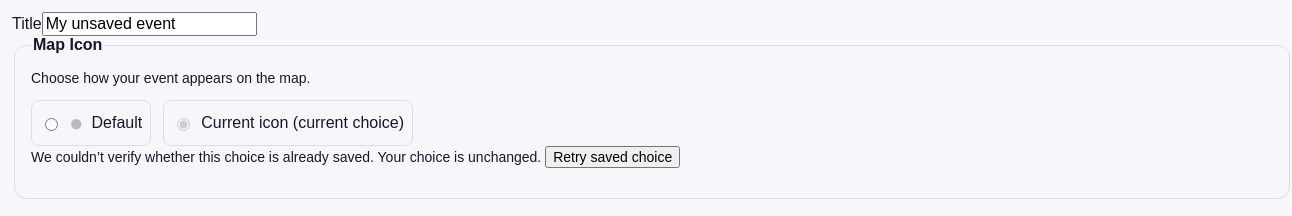
Test case: keeps an unavailable choice when saved-assignment lookup fails and offers retry
The width and height of the screenshot is (1292, 216).
expect the message shows "couldn’t verify": met, box top-left (31, 149), bottom-right (545, 165)
expect the message does not show "before saving": met, box top-left (31, 146), bottom-right (680, 168)
Click the button "Retry saved choice" at [613, 157], box top-left (545, 146), bottom-right (680, 168)
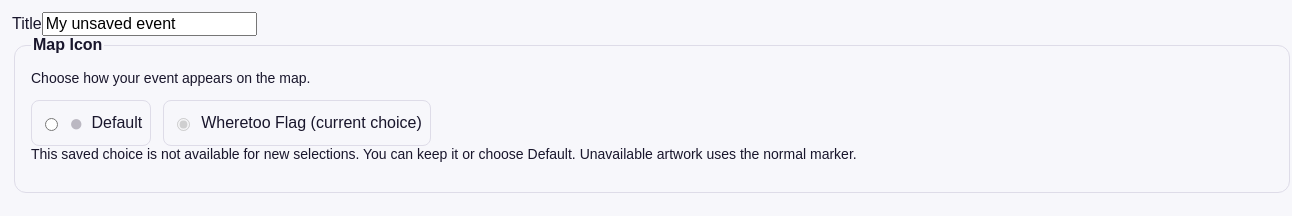
expect the message shows "This saved choice": met, box top-left (31, 146), bottom-right (857, 162)
